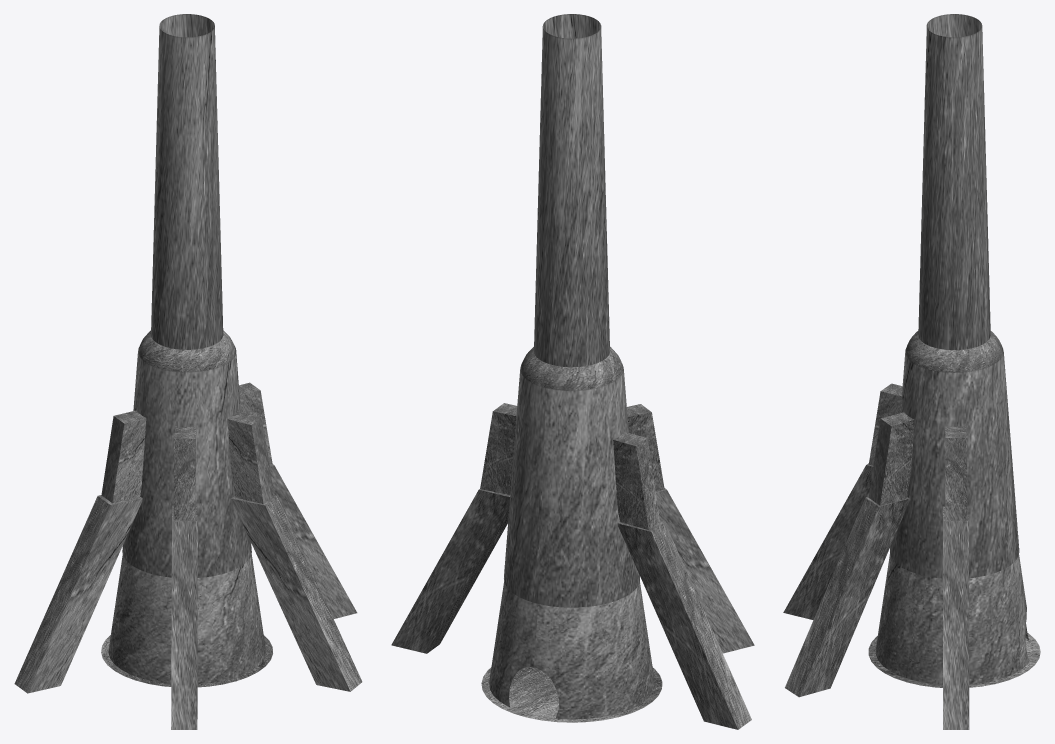
The model's file is Devilsrise.glb.
The picture shows the model from 3 angles, left to right: view 1: azimuth 30°, elevation 25°; view 2: azimuth 150°, elevation 25°; view 3: azimuth 270°, elevation 25°; orthographic projection. The views are drawn at different scales.
Parts seen in each view (by area): view 1: Cube.006.col; view 2: Cube.006.col; view 3: Cube.006.col.
Boxes of the visible parts, bbox=[...] form: Cube.006.col: bbox=[14, 14, 362, 729]; Cube.006.col: bbox=[391, 14, 754, 729]; Cube.006.col: bbox=[783, 14, 1040, 729].
Bounding box in the file's own units: 7.72 × 13.99 × 5.21.
Materials: 13 (13 with a texture image).
